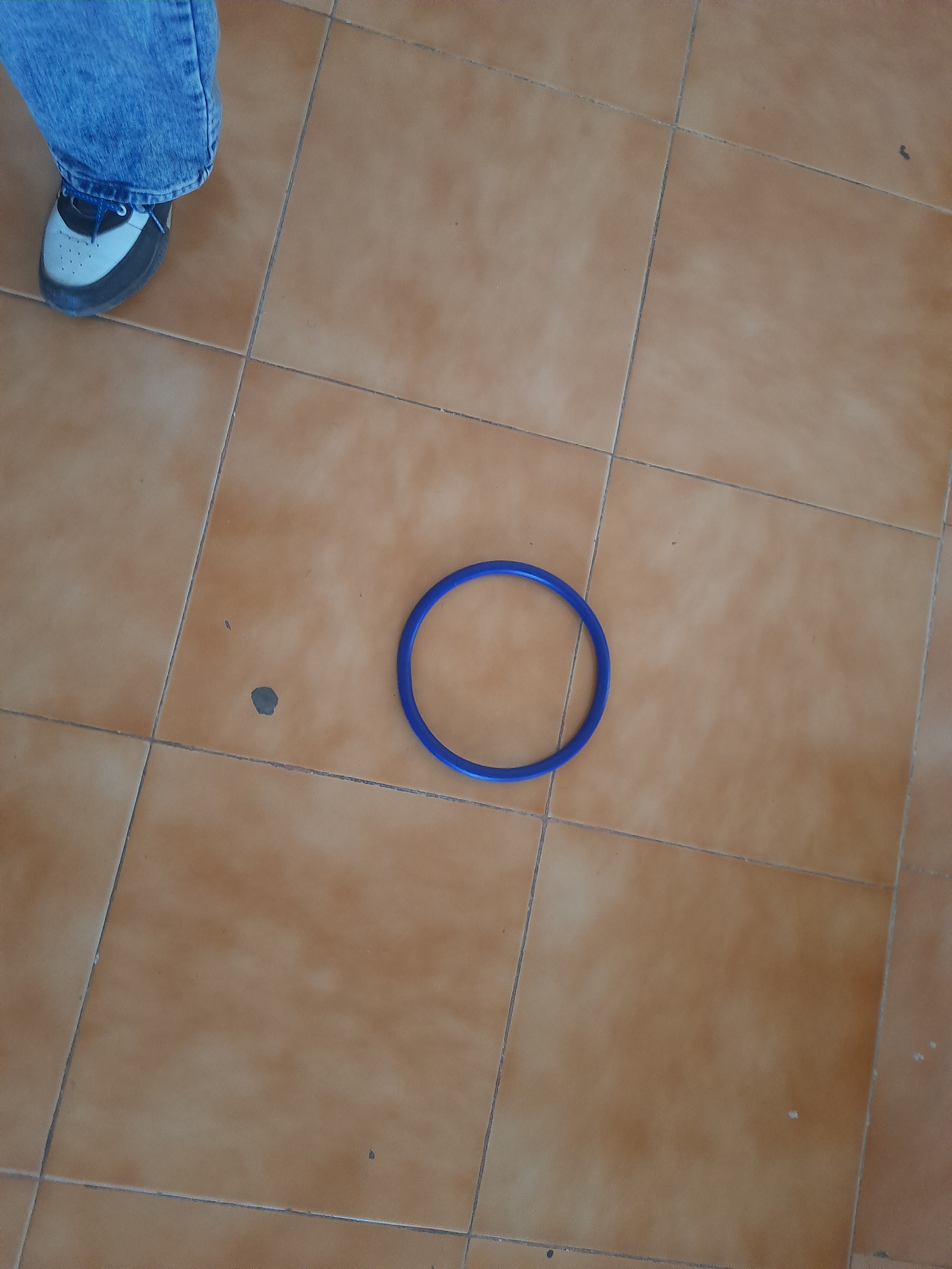Blue ring: (391, 559, 611, 776)
